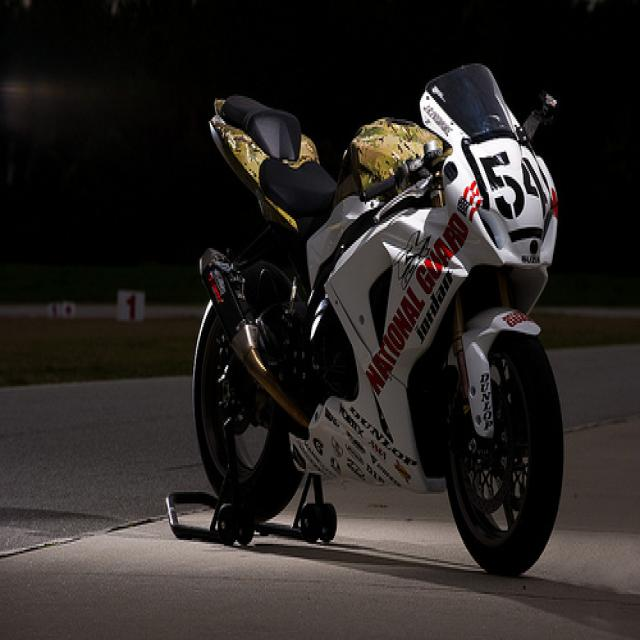Motorbike: (196, 60, 563, 610)
